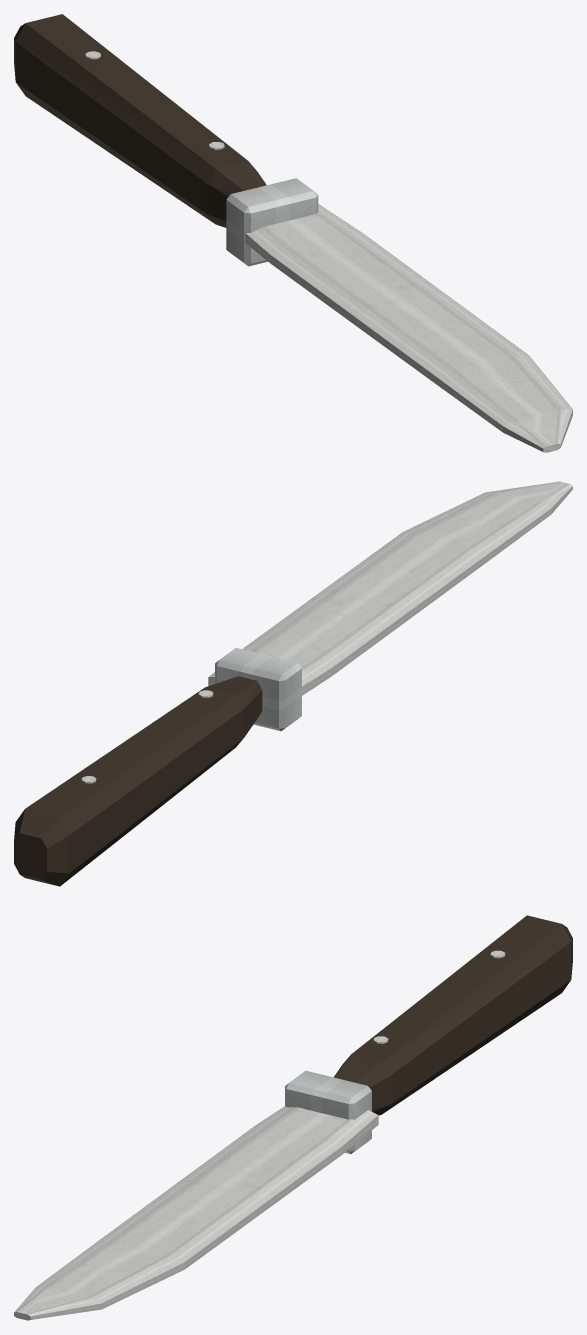
Rendered from knife.glb.
3 renders of one model, top to bottom at view 1: azimuth 30°, elevation 25°; view 2: azimuth 150°, elevation 25°; view 3: azimuth 330°, elevation 25°, orthographic. The views are drawn at different scales.
Visible parts, largest first — view 1: home_knife; view 2: home_knife; view 3: home_knife.
Boxes of the visible parts, bbox=[...] form: home_knife: bbox=[14, 14, 572, 452]; home_knife: bbox=[14, 481, 572, 886]; home_knife: bbox=[14, 915, 572, 1320].
Size of the model in its own units: 0.021 by 0.016 by 0.215.
Materials: 1 (1 with a texture image).
